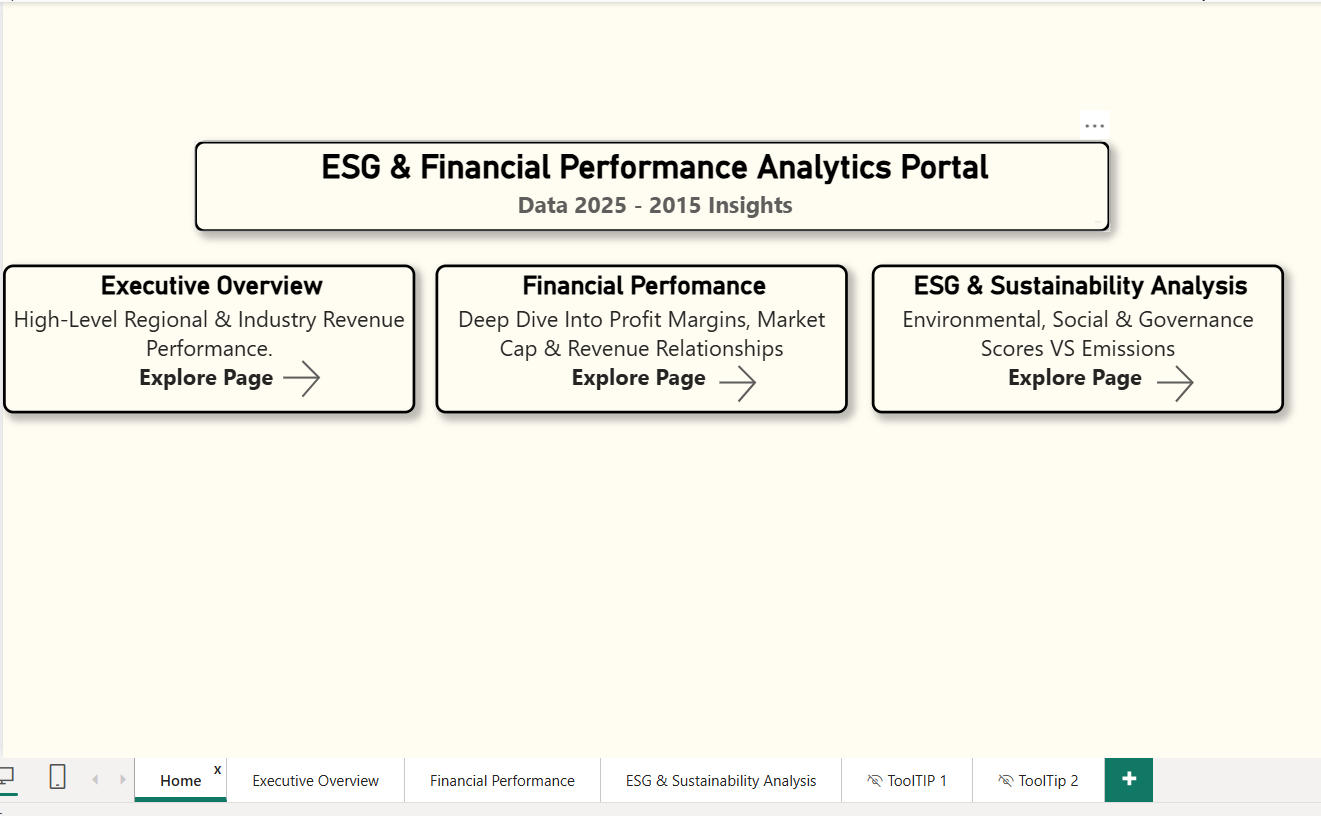

This screenshot's page, from the dashboard's own definition file:
{"tool":"powerbi","page":{"name":"Home","canvas":[1920,1100],"ordinal":0},"visuals":[{"type":"textbox","title":"ESG & Financial Performance Analytics Portal","box":[278.3,201.9,1333.2,132.8],"z":0},{"type":"textbox","title":"Executive Overview","box":[0,381.9,600,216.4],"z":1000},{"type":"actionButton","box":[400.1,514.7,147.3,67.3],"z":2000},{"type":"textbox","title":"Financial Perfomance","box":[629.3,381.9,600,216.4],"z":3000},{"type":"actionButton","box":[1034.9,522,147,67],"z":4000},{"type":"textbox","title":"ESG & Sustainability Analysis","box":[1264.1,381.9,600.2,216.4],"z":5000},{"type":"actionButton","box":[1671.5,522,147,67],"z":6000}]}

Visuals, with their boxes in screenshot pixels (x1, y1, x2, y2):
"ESG & Financial Performance Analytics Portal" textbox: x1=199 y1=140 x2=1104 y2=231
"Executive Overview" textbox: x1=10 y1=263 x2=417 y2=409
actionButton: x1=282 y1=353 x2=382 y2=398
"Financial Perfomance" textbox: x1=437 y1=263 x2=844 y2=409
actionButton: x1=713 y1=358 x2=812 y2=403
"ESG & Sustainability Analysis" textbox: x1=868 y1=263 x2=1275 y2=409
actionButton: x1=1144 y1=358 x2=1244 y2=403
